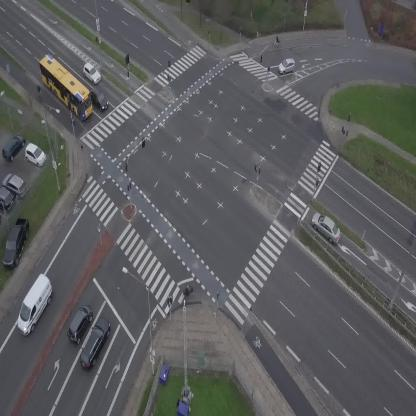bicycle: (180, 285, 196, 300), (35, 84, 42, 98), (272, 36, 280, 46)
bus: (31, 51, 102, 122)
car: (75, 315, 116, 373), (62, 301, 97, 346), (306, 209, 346, 246), (86, 86, 111, 114), (79, 61, 104, 86), (276, 57, 298, 76)
lorry: (8, 272, 60, 338)
